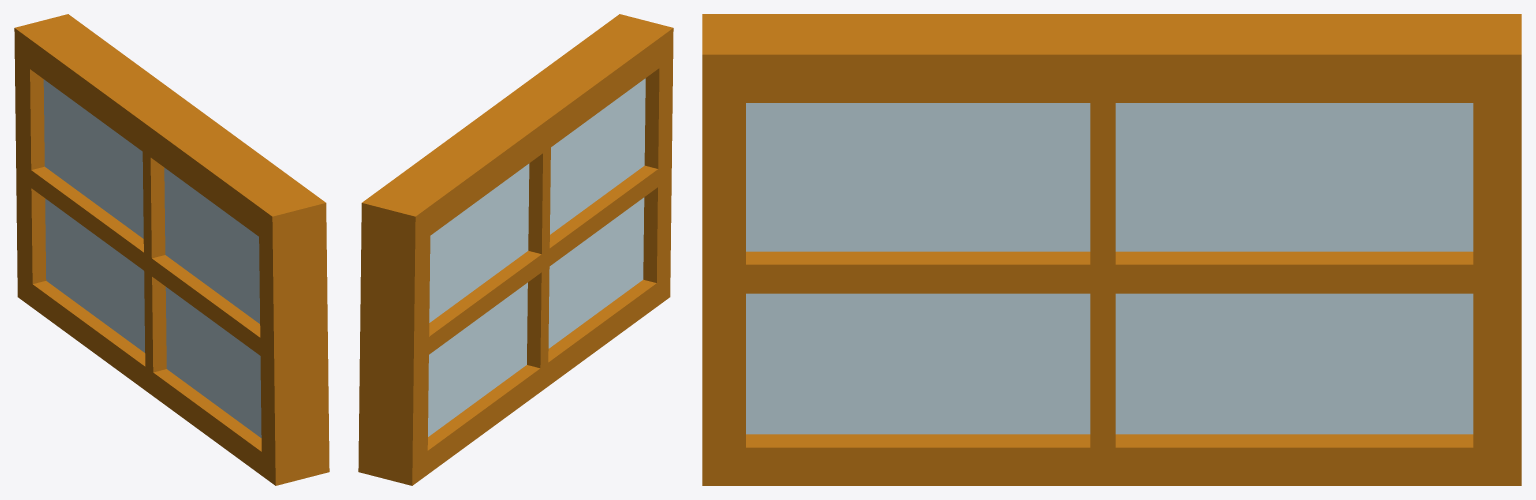
Rendered from ventana4.obj.
The picture shows the model from 3 angles, left to right: view 1: azimuth 30°, elevation 25°; view 2: azimuth 150°, elevation 25°; view 3: azimuth 270°, elevation 25°; orthographic projection. The views are drawn at different scales.
Visible parts, largest first — view 1: pasted__pasted__pasted__pasted__pasted__pCube17 pasted__pasted__; view 2: pasted__pasted__pasted__pasted__pasted__pCube17 pasted__pasted__; view 3: pasted__pasted__pasted__pasted__pasted__pCube17 pasted__pasted__.
Part boxes in pixels (x1,y1,x2,y2): pasted__pasted__pasted__pasted__pasted__pCube17 pasted__pasted__: (14,14,329,485); pasted__pasted__pasted__pasted__pasted__pCube17 pasted__pasted__: (358,14,673,485); pasted__pasted__pasted__pasted__pasted__pCube17 pasted__pasted__: (702,14,1521,485).
Size of the model in its own units: 0.2166 by 0.9815 by 1.69.
1 material, 1 textured.
